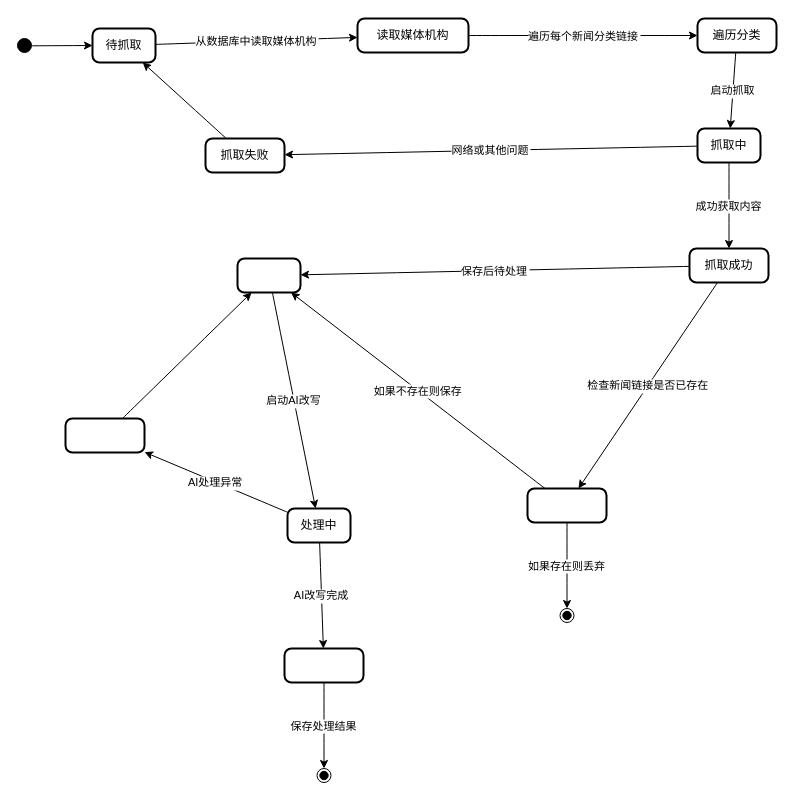
Image size: 795x800. Some labels were removed from this diagram. The box of each missing label's shape, as (x1, y1, x2, y2) in pixels:
去重检查: (526, 487, 607, 523)
处理失败: (64, 417, 145, 453)
处理成功: (283, 647, 364, 683)
待处理: (236, 257, 301, 293)
